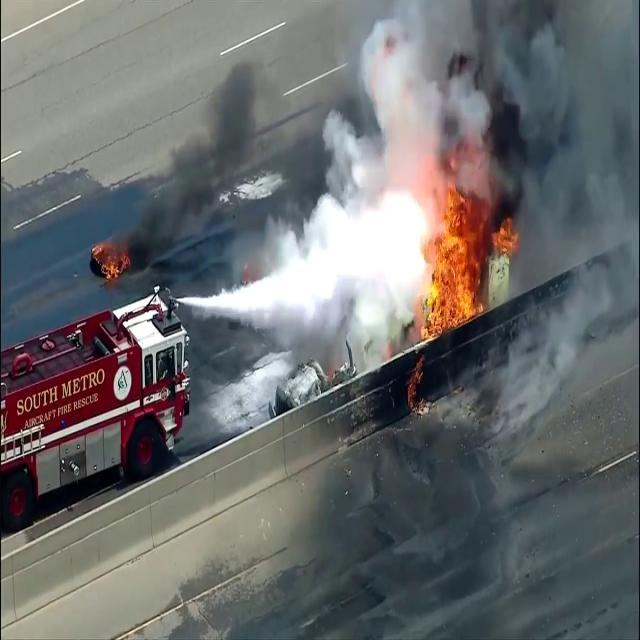Fire: (414, 179, 482, 336), (90, 238, 136, 286)
Smoke: (326, 1, 637, 240), (137, 8, 345, 270)
